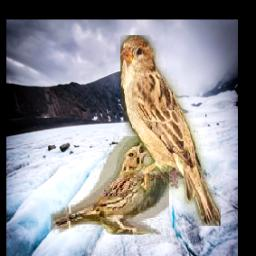Sparrow: (121, 35, 222, 226), (52, 137, 170, 236)
